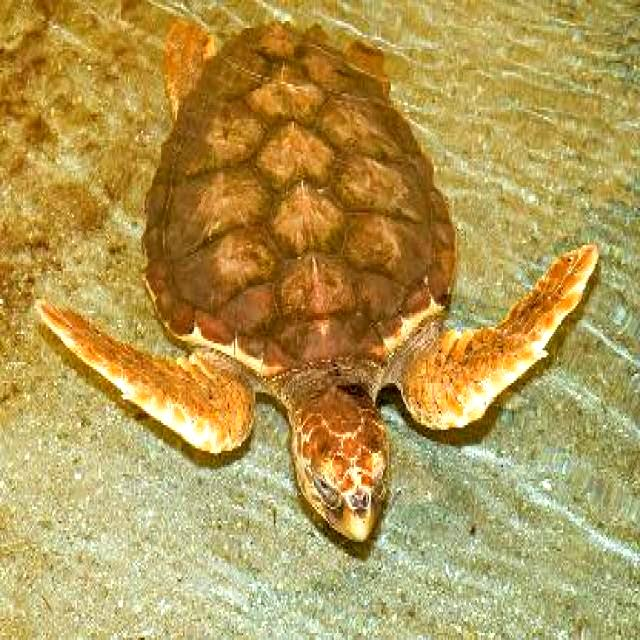Sea turtle: (38, 6, 607, 557)
